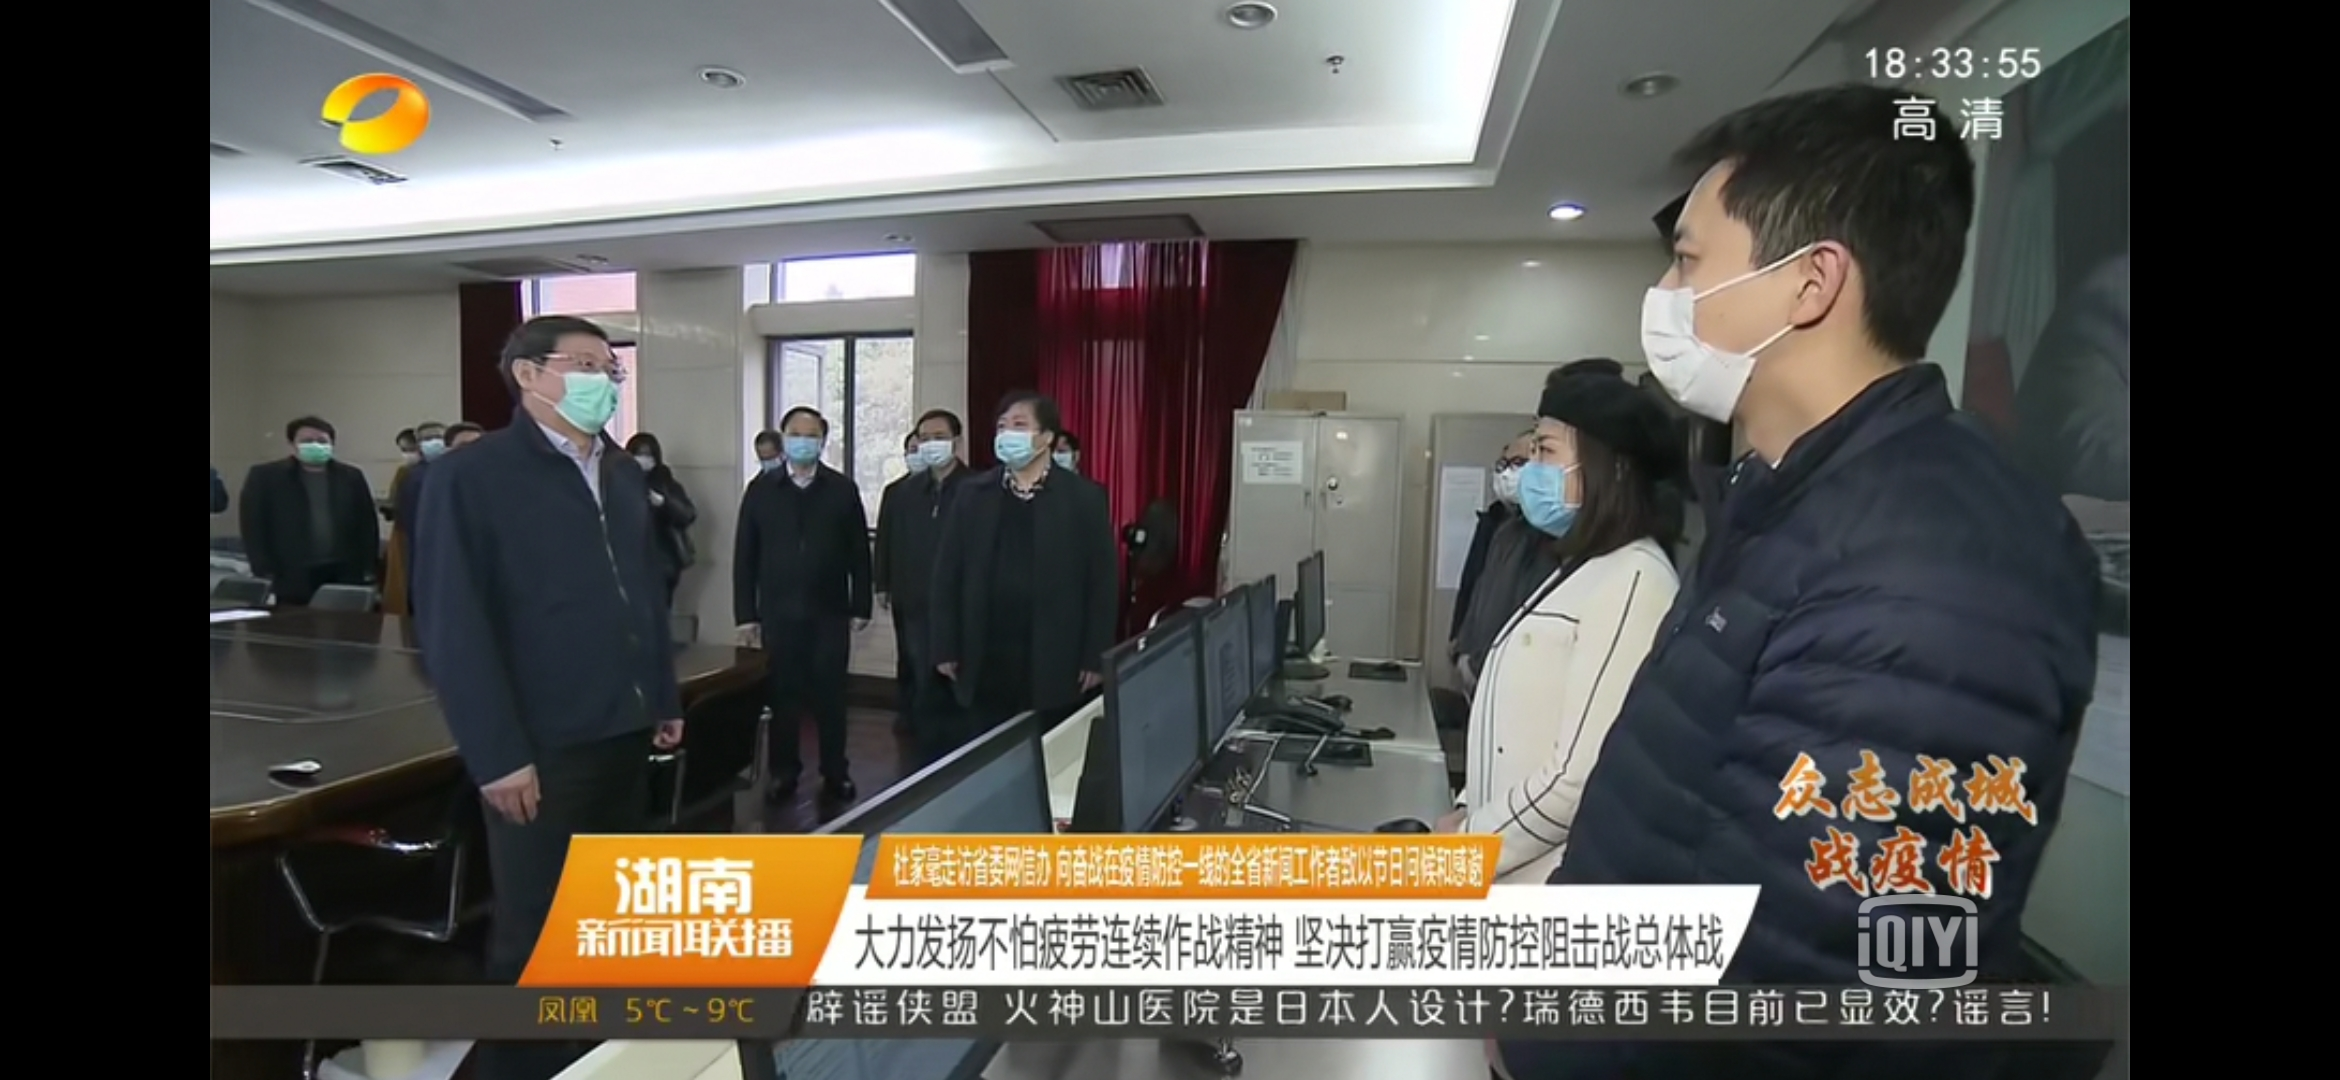correctlyWear: (1636, 233, 1876, 446), (509, 346, 621, 442), (1518, 436, 1592, 539), (995, 410, 1052, 476), (919, 424, 963, 470), (782, 424, 824, 471), (1494, 442, 1524, 504), (290, 431, 331, 468), (627, 442, 660, 471), (418, 428, 445, 462), (755, 442, 782, 471), (398, 439, 419, 464)
